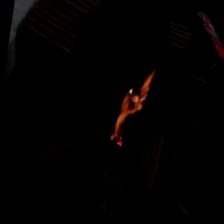fire: (93, 55, 164, 163)
